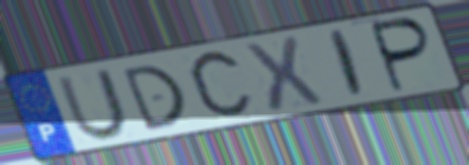C: (184, 45, 257, 125)
D: (118, 62, 190, 134)
I: (328, 27, 367, 101)
P: (369, 15, 436, 96)
U: (54, 66, 132, 143)
X: (239, 34, 327, 117)
